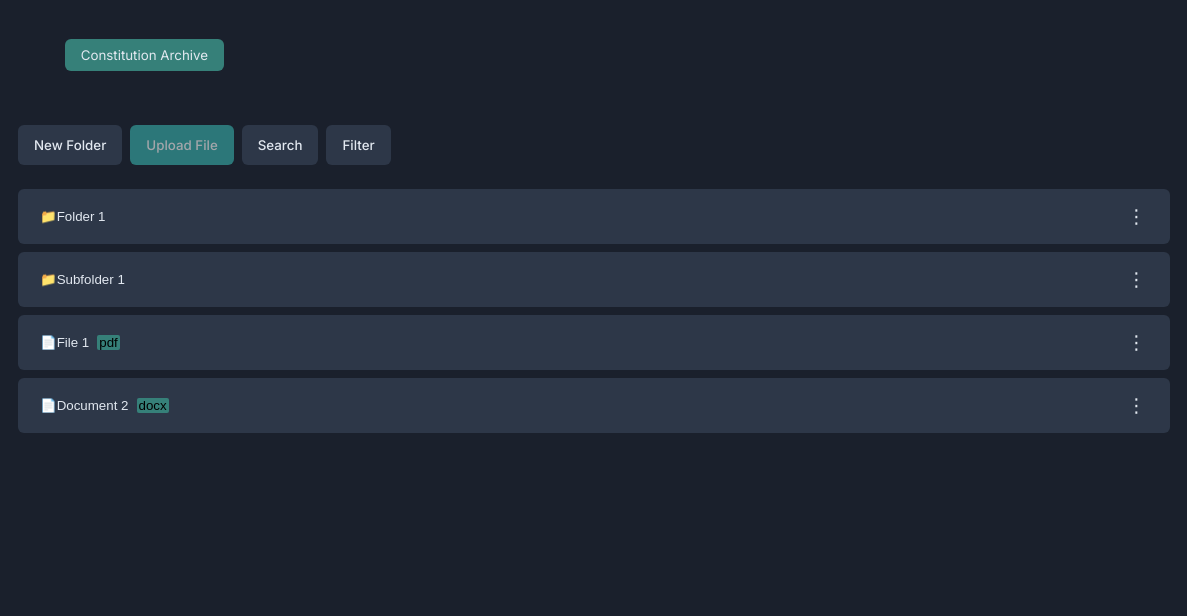
Test: FolderBrowser Component › handles duplicate folder name error
Click the button "New Folder".
click(70, 145)  # box top-left (18, 125), bottom-right (122, 165)
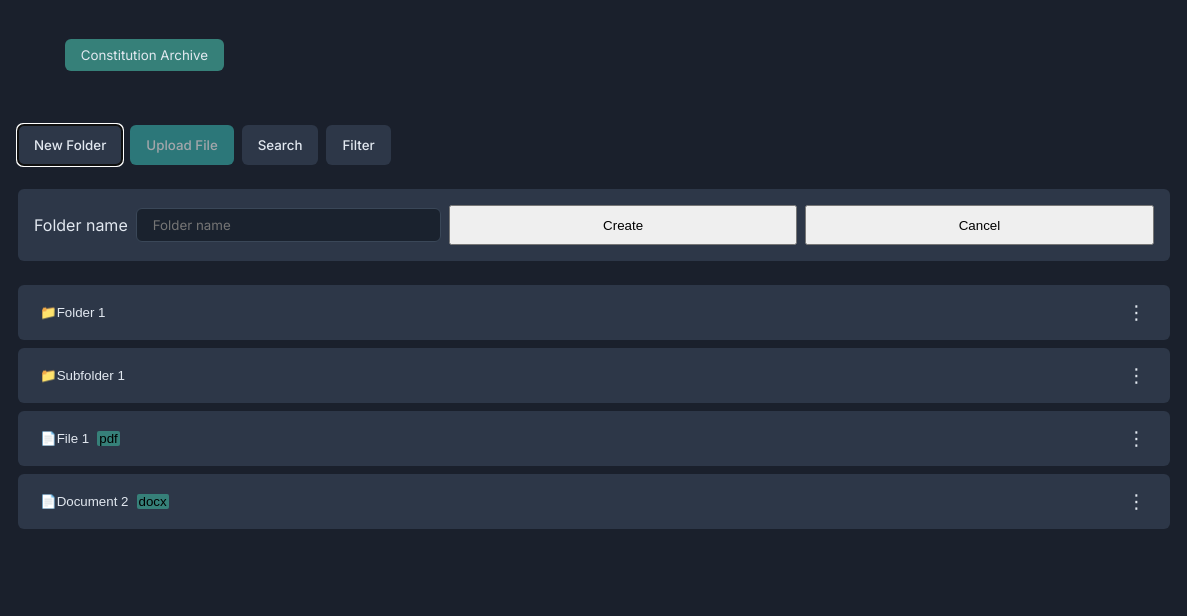
Type "Existing Folder" into the field with placeholder "Folder name".
click(288, 225); type("Existing Folder")  # box top-left (136, 208), bottom-right (441, 242)
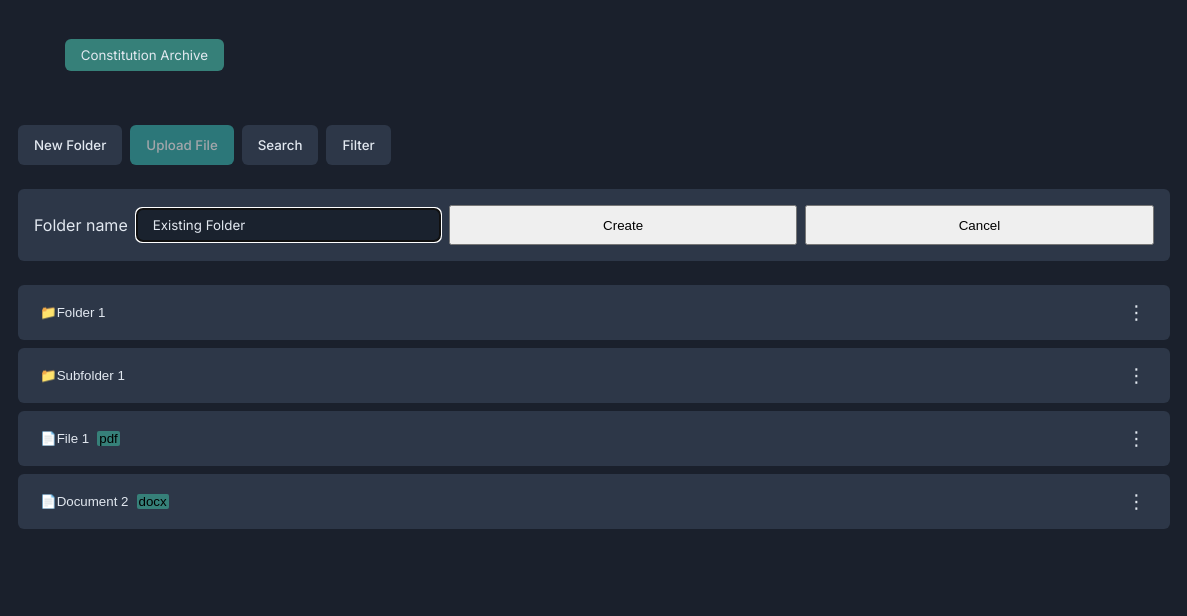
Click the button "Create".
click(623, 225)  # box top-left (449, 205), bottom-right (797, 245)
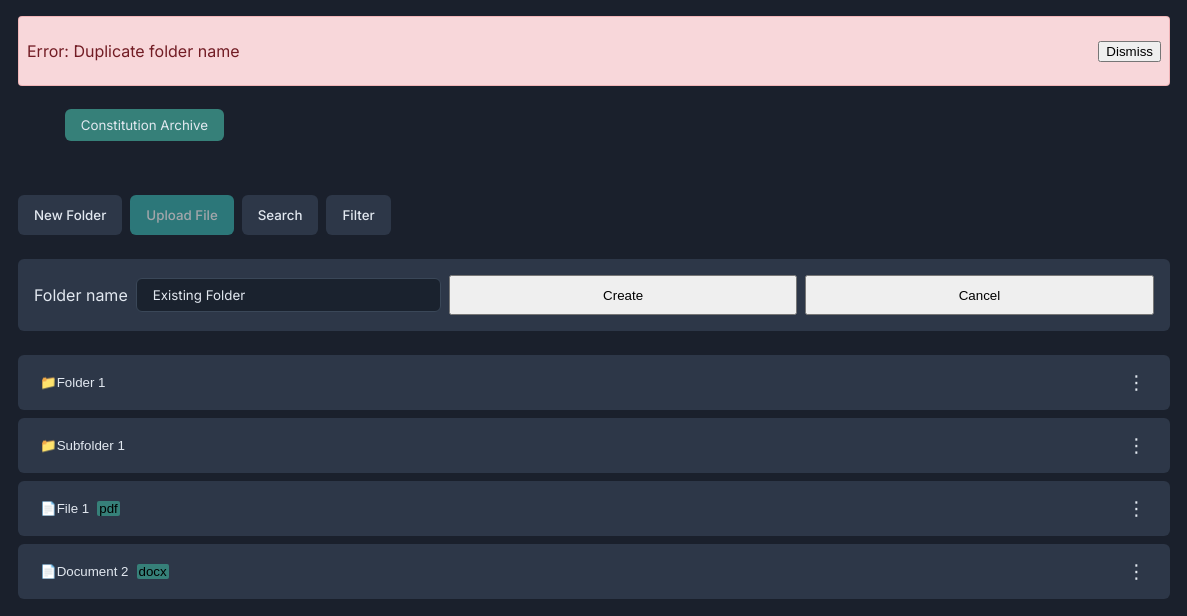
Expected: the text "Error: Duplicate folder name" is shown, top-left (27, 41), bottom-right (240, 61)
